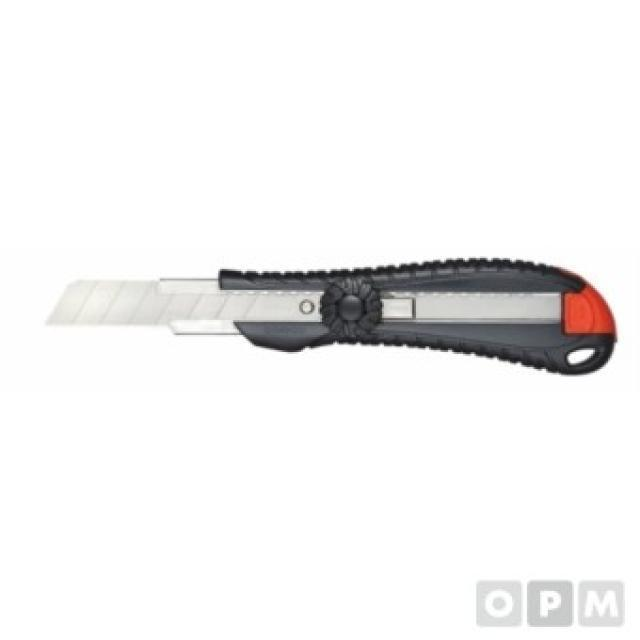cutter: (33, 252, 624, 384)
